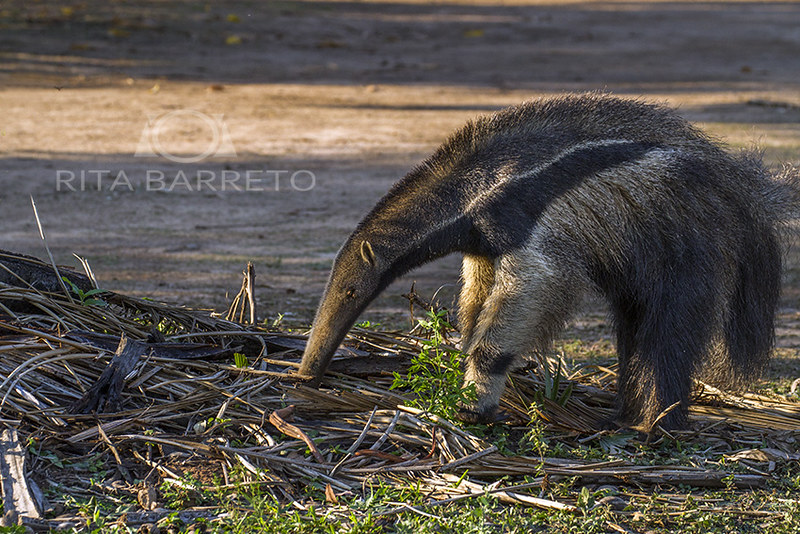TamanduaBandeira: (289, 84, 789, 452)
